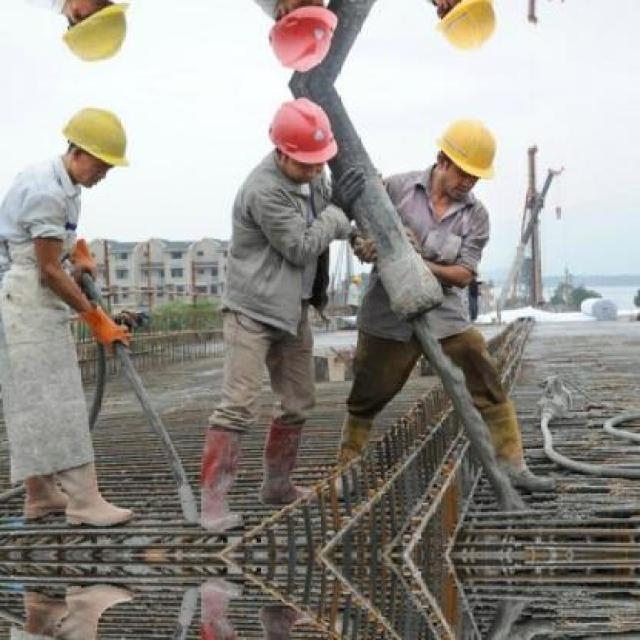helmet: (53, 98, 135, 189), (429, 108, 506, 200), (262, 98, 338, 180), (52, 0, 135, 72), (261, 0, 338, 72), (429, 0, 508, 63)
